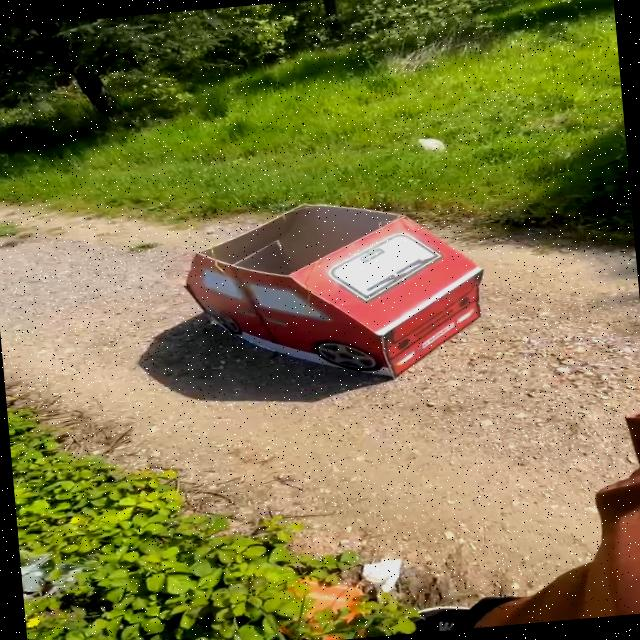red_car: (143, 173, 550, 424)
